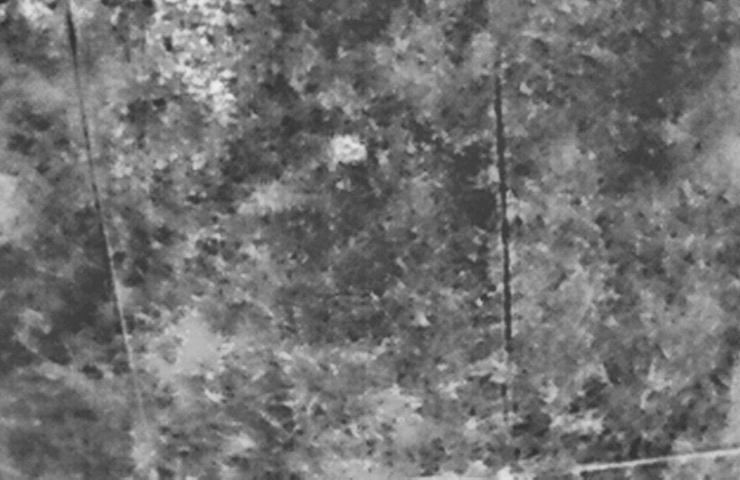landmines: (323, 130, 371, 167)
